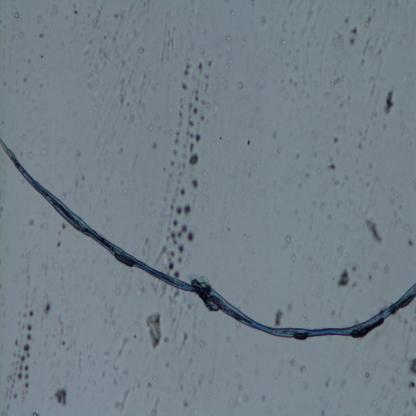Background material: (155, 171, 175, 235), (361, 30, 393, 66), (297, 0, 316, 36), (145, 312, 162, 350), (113, 336, 130, 370), (160, 22, 174, 63), (364, 218, 384, 245), (381, 87, 398, 117), (113, 387, 131, 412), (153, 245, 169, 268), (170, 224, 188, 244), (91, 4, 105, 27), (370, 93, 380, 125), (118, 80, 131, 104), (93, 46, 110, 64), (338, 234, 349, 260), (336, 268, 350, 288), (141, 237, 152, 262), (384, 395, 397, 416), (402, 315, 416, 334), (358, 123, 369, 147), (54, 387, 67, 406), (348, 24, 359, 45), (192, 333, 206, 349), (389, 210, 401, 228), (178, 332, 188, 353), (186, 154, 201, 168), (108, 10, 125, 22), (407, 355, 416, 377), (84, 353, 96, 369), (336, 29, 346, 48), (368, 76, 378, 94), (174, 162, 186, 177), (77, 349, 84, 374), (338, 93, 350, 107), (300, 312, 312, 325), (305, 39, 311, 65), (191, 310, 198, 332), (364, 13, 373, 30), (152, 397, 160, 416), (275, 309, 283, 327), (182, 61, 191, 77), (156, 285, 167, 298), (57, 315, 64, 335), (74, 174, 84, 188), (328, 77, 340, 88), (326, 156, 335, 170), (392, 376, 401, 390), (178, 99, 185, 117), (167, 248, 176, 262), (170, 196, 176, 217), (281, 234, 291, 246), (369, 260, 379, 272), (176, 244, 186, 256), (224, 59, 234, 71), (260, 12, 268, 26), (373, 400, 381, 414), (169, 308, 177, 322), (168, 295, 178, 306), (136, 44, 145, 56), (138, 96, 147, 108), (235, 394, 244, 406), (288, 78, 298, 88), (36, 30, 46, 40), (404, 336, 408, 361), (364, 373, 373, 384), (124, 286, 132, 298), (331, 174, 339, 186), (150, 278, 158, 290), (184, 205, 192, 217), (41, 146, 49, 158), (186, 231, 194, 243), (103, 319, 116, 326), (407, 380, 416, 390), (197, 374, 203, 389), (132, 381, 140, 392), (308, 216, 314, 230), (236, 78, 243, 90), (174, 130, 180, 144), (172, 271, 180, 281), (196, 61, 204, 71), (337, 379, 345, 389), (383, 265, 391, 275), (44, 303, 50, 316), (188, 116, 195, 127), (19, 251, 30, 258), (25, 291, 29, 310), (206, 58, 214, 67), (106, 308, 115, 316), (325, 376, 331, 388), (25, 274, 31, 286), (190, 180, 198, 189), (150, 141, 158, 150), (187, 356, 193, 368), (288, 358, 296, 367), (411, 394, 416, 408), (367, 273, 374, 283), (194, 88, 199, 102), (226, 34, 233, 44), (328, 309, 338, 316), (271, 130, 278, 140), (102, 348, 112, 355), (299, 364, 306, 374), (204, 82, 210, 93), (176, 204, 182, 215), (186, 302, 194, 310), (342, 16, 350, 24), (390, 353, 398, 361), (195, 134, 203, 142), (28, 220, 36, 228), (42, 210, 50, 218), (174, 288, 181, 297), (135, 289, 142, 298), (182, 400, 189, 409), (319, 201, 325, 211), (290, 252, 296, 262), (149, 122, 155, 132), (14, 9, 20, 19), (5, 386, 10, 398), (25, 382, 30, 394), (296, 182, 304, 189), (24, 344, 31, 352), (182, 83, 189, 91), (364, 180, 371, 188), (304, 172, 311, 180), (408, 240, 415, 248), (35, 17, 42, 25), (192, 108, 199, 116), (88, 376, 95, 384), (167, 264, 174, 272), (190, 138, 194, 152), (122, 368, 129, 376), (228, 10, 235, 18), (382, 123, 387, 134), (275, 148, 284, 154), (402, 223, 408, 232), (172, 219, 178, 228), (11, 379, 17, 388), (0, 205, 4, 218), (113, 378, 118, 388), (405, 400, 410, 410), (351, 278, 356, 288), (203, 180, 208, 190), (153, 376, 160, 383), (293, 153, 300, 160), (8, 388, 12, 400), (20, 354, 26, 362), (62, 222, 68, 230), (370, 188, 376, 196), (243, 395, 249, 403), (180, 187, 186, 195), (328, 212, 334, 220), (332, 137, 338, 145), (286, 305, 294, 311), (292, 66, 300, 72), (17, 32, 25, 38), (21, 391, 25, 403), (120, 147, 126, 155), (116, 288, 122, 295), (28, 310, 34, 317), (56, 241, 62, 248), (400, 122, 406, 129), (320, 235, 326, 242), (147, 382, 153, 389), (24, 373, 30, 380), (6, 375, 12, 382), (163, 337, 170, 343), (165, 361, 171, 368), (177, 256, 182, 264), (352, 264, 357, 272), (13, 274, 18, 282), (304, 382, 309, 390), (58, 228, 63, 236), (66, 345, 74, 350), (32, 411, 40, 416), (32, 288, 38, 294), (22, 78, 28, 84), (26, 334, 32, 340), (246, 238, 252, 244), (320, 409, 326, 415), (318, 167, 322, 176), (246, 138, 251, 145), (206, 395, 211, 402), (24, 364, 28, 372), (398, 316, 402, 324), (262, 394, 266, 402), (18, 372, 22, 380), (394, 192, 399, 198), (238, 386, 243, 392), (19, 364, 24, 370), (135, 320, 140, 326), (61, 339, 65, 346), (397, 368, 401, 375), (141, 287, 145, 294), (398, 205, 403, 210), (73, 10, 78, 15), (0, 282, 3, 290), (28, 326, 32, 332), (380, 386, 384, 392), (102, 371, 106, 377), (43, 262, 46, 270), (15, 341, 19, 346), (248, 172, 252, 177), (14, 394, 18, 399), (23, 313, 27, 318), (15, 366, 18, 372), (413, 308, 416, 314), (180, 386, 183, 392), (7, 403, 10, 409), (27, 353, 30, 359), (22, 326, 26, 330), (15, 361, 19, 365), (18, 352, 20, 358), (134, 335, 136, 340), (14, 353, 16, 358), (19, 322, 21, 326), (14, 372, 16, 376), (203, 75, 205, 76)
Cotton: (0, 141, 416, 338)
